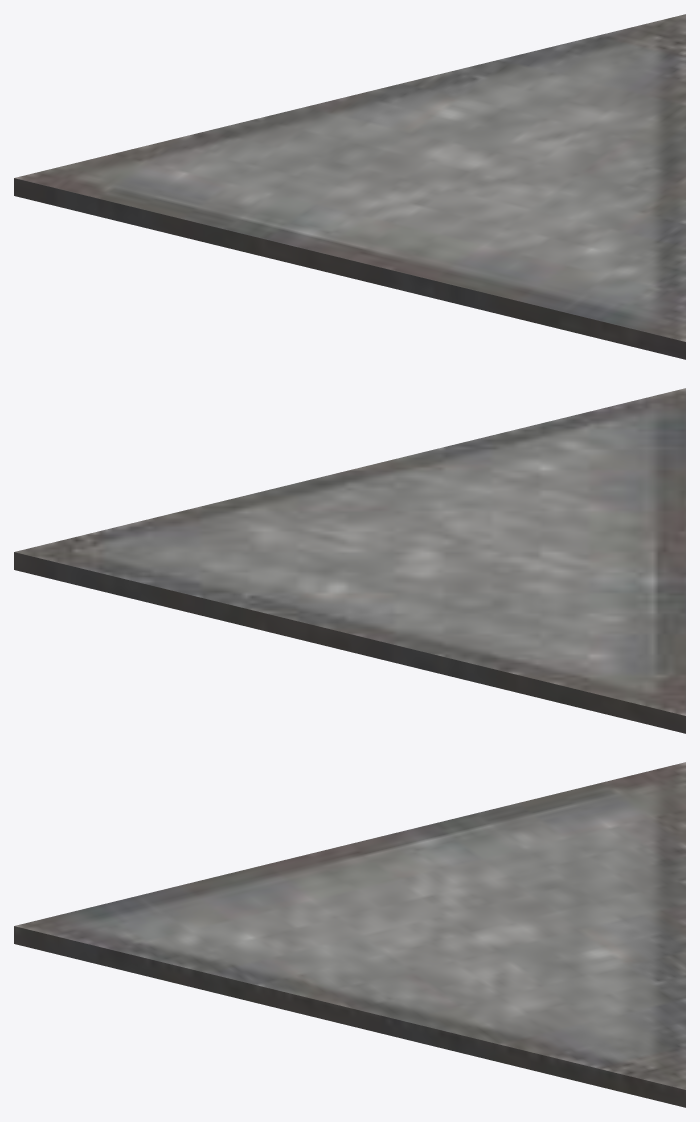
The model's file is armored_foundation_triangle_low_textured.glb.
3 renders of one model, top to bottom at view 1: azimuth 30°, elevation 25°; view 2: azimuth 150°, elevation 25°; view 3: azimuth 270°, elevation 25°, orthographic.
Parts seen in each view (by area): view 1: Circle.001; view 2: Circle.001; view 3: Circle.001.
Part boxes in pixels (x1,y1,x2,y2): Circle.001: [14, 14, 685, 359]; Circle.001: [14, 388, 685, 733]; Circle.001: [14, 762, 685, 1107].
Bounding box in the file's own units: 2 × 0.0508 × 1.73.
1 material, 1 textured.
